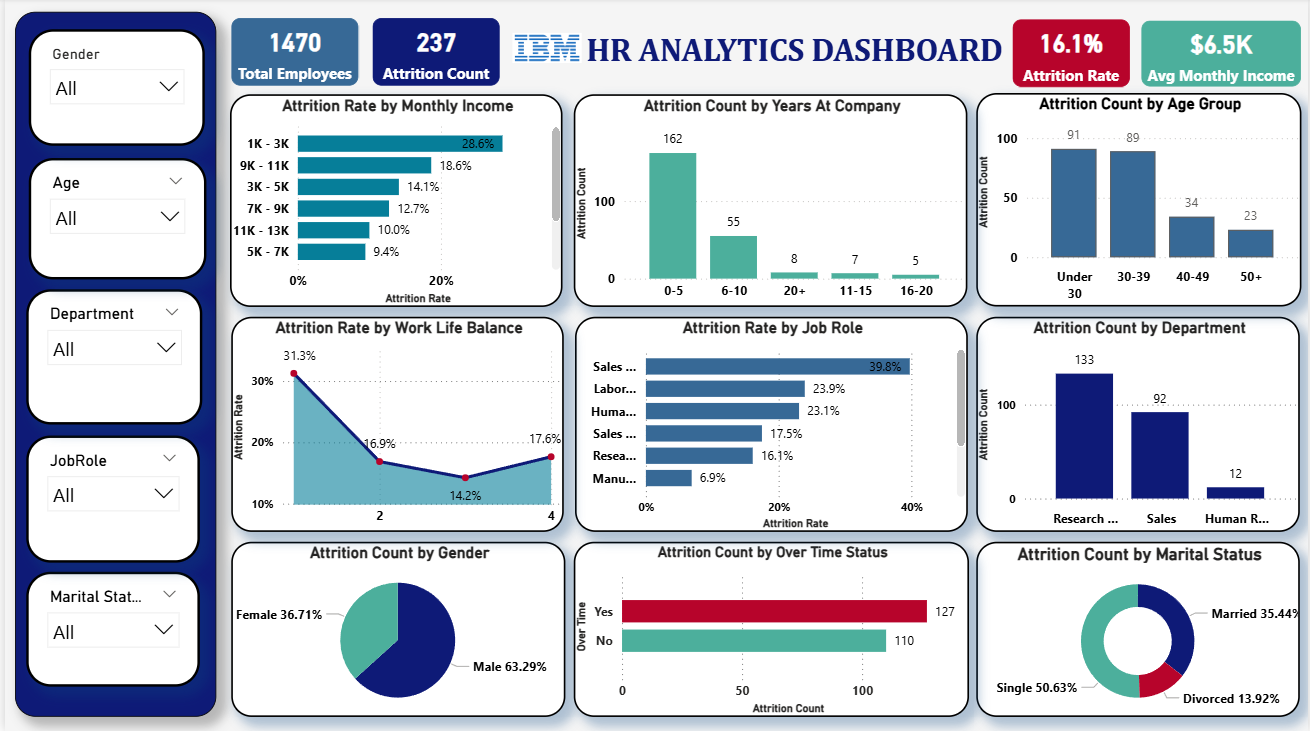

This screenshot's page, from the dashboard's own definition file:
{"tool":"powerbi","page":{"name":"Page 1","canvas":[1280,720],"ordinal":0},"visuals":[{"type":"shape","box":[9.8,13.5,197.5,692],"z":0},{"type":"slicer","fields":{"Values":["IBM_HR_Analytics.MaritalStatus"]},"box":[20.9,563.2,170.6,112.9],"z":2000},{"type":"textbox","box":[565.6,8.6,423.3,78.5],"z":3000},{"type":"slicer","fields":{"Values":["IBM_HR_Analytics.JobRole"]},"box":[20.9,429.5,170.6,125.2],"z":4000},{"type":"slicer","fields":{"Values":["IBM_HR_Analytics.Department"]},"box":[20.9,285.9,173,132.5],"z":5000},{"type":"slicer","fields":{"Values":["IBM_HR_Analytics.Age_Bin"]},"box":[23.3,157.1,174.2,119],"z":6000},{"type":"slicer","fields":{"Values":["IBM_HR_Analytics.Gender"]},"box":[23.3,30.7,173,114.1],"z":7000},{"type":"clusteredColumnChart","fields":{"Category":["IBM_HR_Analytics.Department"],"Y":["IBM_HR_Analytics.Attrition Count"]},"box":[953.4,312.9,317.8,211],"z":8000},{"type":"columnChart","title":"Attrition Count by Age Group","fields":{"Category":["IBM_HR_Analytics.Age_Bin"],"Y":["IBM_HR_Analytics.Attrition Count"]},"box":[953.4,93.3,319,209.8],"z":9000},{"type":"clusteredBarChart","title":"Attrition Rate by Monthly Income","fields":{"Category":["IBM_HR_Analytics.Income_Bin"],"Y":["IBM_HR_Analytics.Attrition Rate"]},"box":[220.9,94.5,326.4,208.6],"z":10000},{"type":"clusteredColumnChart","fields":{"Y":["IBM_HR_Analytics.Attrition Count"],"Category":["IBM_HR_Analytics.YearsAtCompany_Bin"]},"box":[558.3,94.5,386.5,208.6],"z":11000},{"type":"pieChart","fields":{"Category":["IBM_HR_Analytics.Gender"],"Y":["IBM_HR_Analytics.Attrition Count"]},"box":[222.1,533.7,327.6,171.8],"z":12000},{"type":"donutChart","fields":{"Category":["IBM_HR_Analytics.MaritalStatus"],"Y":["IBM_HR_Analytics.Attrition Count"]},"box":[953.4,533.7,317.8,171.8],"z":13000},{"type":"clusteredBarChart","title":"Attrition Count by Over Time Status","fields":{"Category":["IBM_HR_Analytics.OverTime"],"Y":["IBM_HR_Analytics.Attrition Count"]},"box":[558.3,533.7,387.7,171.8],"z":14000},{"type":"card","fields":{"Values":["IBM_HR_Analytics.Total Employees"]},"box":[222.1,19.6,125.2,66.3],"z":15000},{"type":"card","fields":{"Values":["IBM_HR_Analytics.Average Monthly Income"]},"box":[1115.3,22.1,157.1,65],"z":16000},{"type":"card","fields":{"Values":["IBM_HR_Analytics.Attrition Rate"]},"box":[989,20.9,115.3,66.3],"z":17000},{"type":"card","fields":{"Values":["IBM_HR_Analytics.Attrition Count"]},"box":[360.7,19.6,125.2,66.3],"z":18000},{"type":"clusteredBarChart","title":"Attrition Rate by Job Role","fields":{"Category":["IBM_HR_Analytics.JobRole"],"Y":["IBM_HR_Analytics.Attrition Rate"]},"box":[559.5,312.9,385.3,211],"z":20000},{"type":"areaChart","title":"Attrition Rate by Work Life Balance","fields":{"Y":["IBM_HR_Analytics.Attrition Rate"],"Category":["IBM_HR_Analytics.WorkLifeBalance"]},"box":[222.1,312.9,326.4,211],"z":21000},{"type":"image","box":[477.3,29.4,109.2,39.3],"z":21001}]}

Visuals, with their boxes in screenshot pixels (x1, y1, x2, y2), scaled from the page's 1280x720 canvas onto the 1310x731 screenshot:
shape: BBox(10, 14, 212, 716)
slicer - IBM_HR_Analytics.MaritalStatus: BBox(21, 572, 196, 686)
textbox: BBox(579, 9, 1012, 88)
slicer - IBM_HR_Analytics.JobRole: BBox(21, 436, 196, 563)
slicer - IBM_HR_Analytics.Department: BBox(21, 290, 198, 425)
slicer - IBM_HR_Analytics.Age_Bin: BBox(24, 160, 202, 280)
slicer - IBM_HR_Analytics.Gender: BBox(24, 31, 201, 147)
clusteredColumnChart - IBM_HR_Analytics.Department x IBM_HR_Analytics.Attrition Count: BBox(976, 318, 1301, 532)
"Attrition Count by Age Group" columnChart: BBox(976, 95, 1302, 308)
"Attrition Rate by Monthly Income" clusteredBarChart: BBox(226, 96, 560, 308)
clusteredColumnChart - IBM_HR_Analytics.Attrition Count x IBM_HR_Analytics.YearsAtCompany_Bin: BBox(571, 96, 967, 308)
pieChart - IBM_HR_Analytics.Gender x IBM_HR_Analytics.Attrition Count: BBox(227, 542, 563, 716)
donutChart - IBM_HR_Analytics.MaritalStatus x IBM_HR_Analytics.Attrition Count: BBox(976, 542, 1301, 716)
"Attrition Count by Over Time Status" clusteredBarChart: BBox(571, 542, 968, 716)
card - IBM_HR_Analytics.Total Employees: BBox(227, 20, 355, 87)
card - IBM_HR_Analytics.Average Monthly Income: BBox(1141, 22, 1302, 88)
card - IBM_HR_Analytics.Attrition Rate: BBox(1012, 21, 1130, 89)
card - IBM_HR_Analytics.Attrition Count: BBox(369, 20, 497, 87)
"Attrition Rate by Job Role" clusteredBarChart: BBox(573, 318, 967, 532)
"Attrition Rate by Work Life Balance" areaChart: BBox(227, 318, 561, 532)
image: BBox(488, 30, 600, 70)
